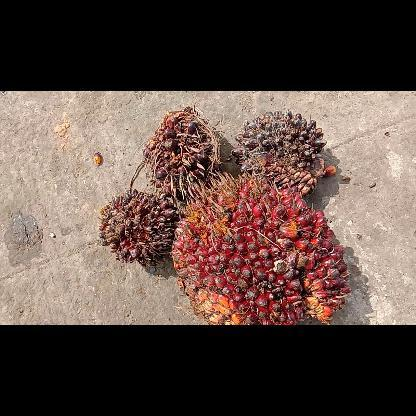TBS abnormal: (230, 107, 338, 197), (142, 104, 224, 196), (96, 187, 180, 269)
TBS masak: (169, 168, 353, 324)
